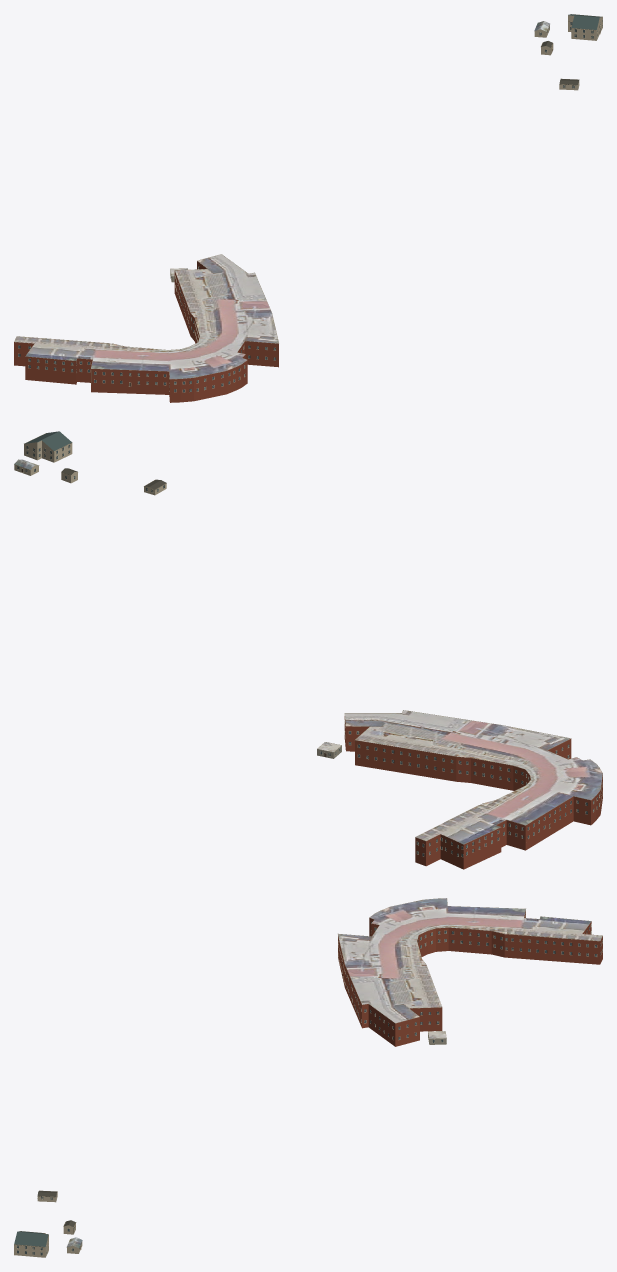
The picture shows the model from 3 angles, top to bottom: view 1: azimuth 90°, elevation 25°; view 2: azimuth 150°, elevation 25°; view 3: azimuth 270°, elevation 25°; orthographic projection. The views are drawn at different scales.
Visible parts, largest first — view 1: -2_1_318287890_3, -2_1_656850720_4, -2_1_318287795_0; view 2: -2_1_318287890_3, -2_1_656850720_4, -2_1_318287795_0; view 3: -2_1_318287890_3, -2_1_656850720_4, -2_1_318287795_0.
Part boxes in pixels (box(x1,y1,x2,y2)): -2_1_318287890_3: box(14, 21, 549, 379); -2_1_656850720_4: box(14, 261, 278, 402); -2_1_318287795_0: box(14, 14, 602, 392); -2_1_318287890_3: box(14, 459, 602, 844); -2_1_656850720_4: box(344, 716, 602, 869); -2_1_318287795_0: box(14, 431, 602, 857); -2_1_318287890_3: box(67, 898, 602, 1247); -2_1_656850720_4: box(338, 911, 602, 1046); -2_1_318287795_0: box(14, 898, 602, 1257).
Bounding box in the file's own units: 483 × 23.8 × 337.
Materials: 13 (1 with a texture image).
